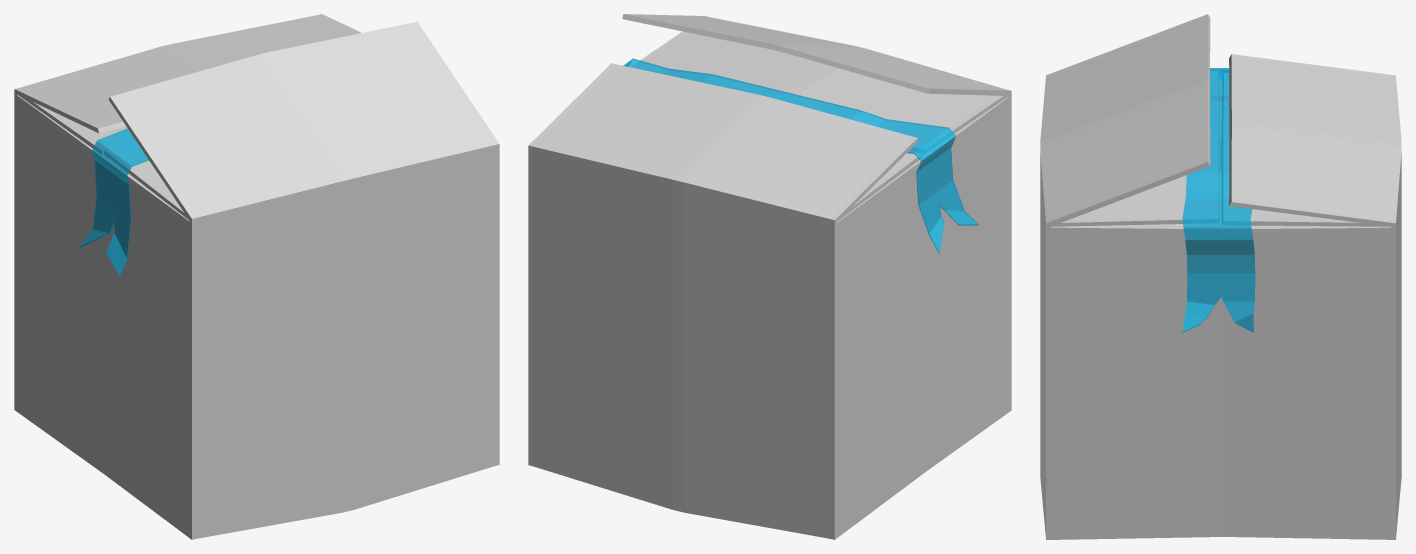
Rendered from cardboardbox.fbx.
3 views of the same model, side by side, from view 1: azimuth 30°, elevation 25°; view 2: azimuth 150°, elevation 25°; view 3: azimuth 270°, elevation 25° (orthographic).
Visible parts, largest first — view 1: box ajar, tape, box closed; view 2: box ajar, box closed, tape; view 3: box ajar, tape, box closed.
Part boxes in pixels (left/top/right/bottom): box ajar: left=14, top=14, right=499, bottom=539; tape: left=79, top=128, right=148, bottom=276; box closed: left=15, top=89, right=190, bottom=219; box ajar: left=528, top=14, right=1011, bottom=539; box closed: left=631, top=31, right=1008, bottom=221; tape: left=623, top=58, right=978, bottom=254; box ajar: left=1040, top=14, right=1401, bottom=539; tape: left=1182, top=68, right=1255, bottom=332; box closed: left=1046, top=71, right=1394, bottom=226.
Size of the model in its own units: 235 by 253 by 213.
